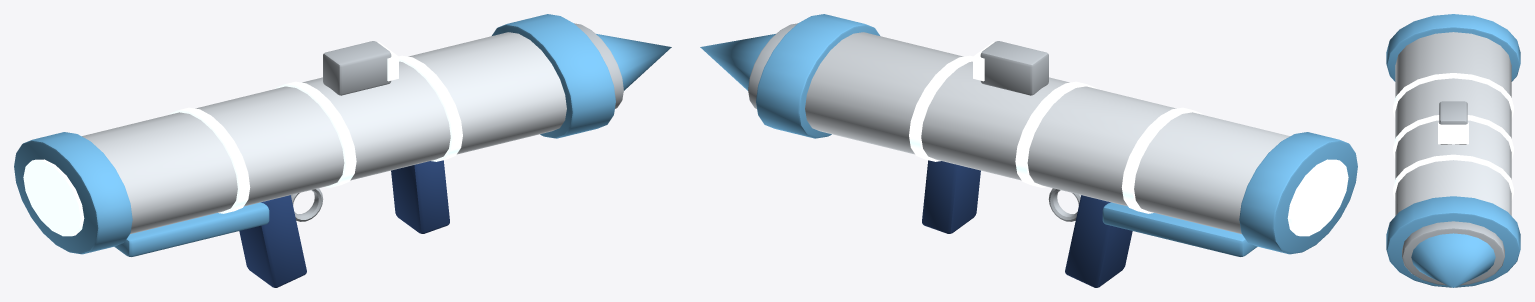
Rendered from SGP_Launcher_Frost.glb.
3 views of the same model, side by side, from view 1: azimuth 30°, elevation 25°; view 2: azimuth 150°, elevation 25°; view 3: azimuth 270°, elevation 25° (orthographic). The views are drawn at different scales.
Visible parts, largest first — view 1: SGP_Launcher_Frost; view 2: SGP_Launcher_Frost; view 3: SGP_Launcher_Frost.
Boxes of the visible parts, x1=… form: SGP_Launcher_Frost: x1=14, y1=14, x2=671, y2=287; SGP_Launcher_Frost: x1=700, y1=14, x2=1357, y2=287; SGP_Launcher_Frost: x1=1386, y1=14, x2=1520, y2=287.
Size of the model in its own units: 0.699 by 0.2197 by 0.1664.
